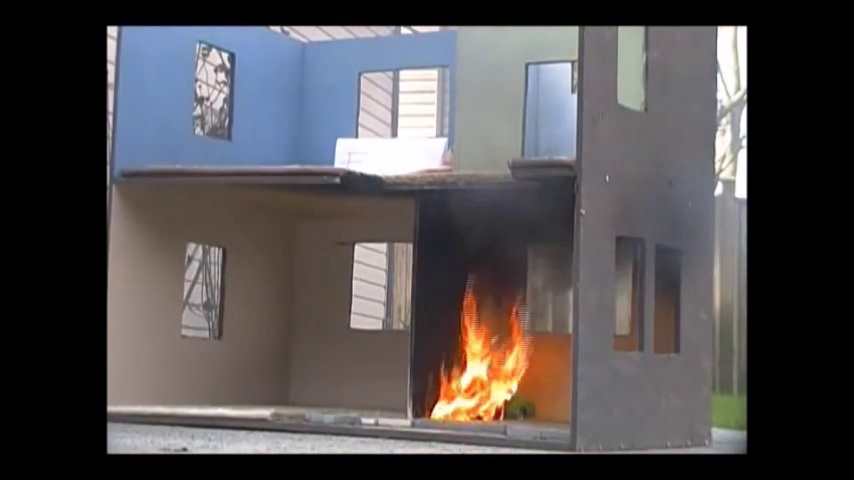fire: (431, 297, 520, 421)
